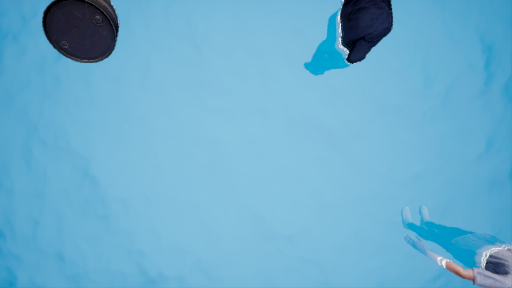person: (407, 209, 512, 286), (300, 1, 394, 82)
